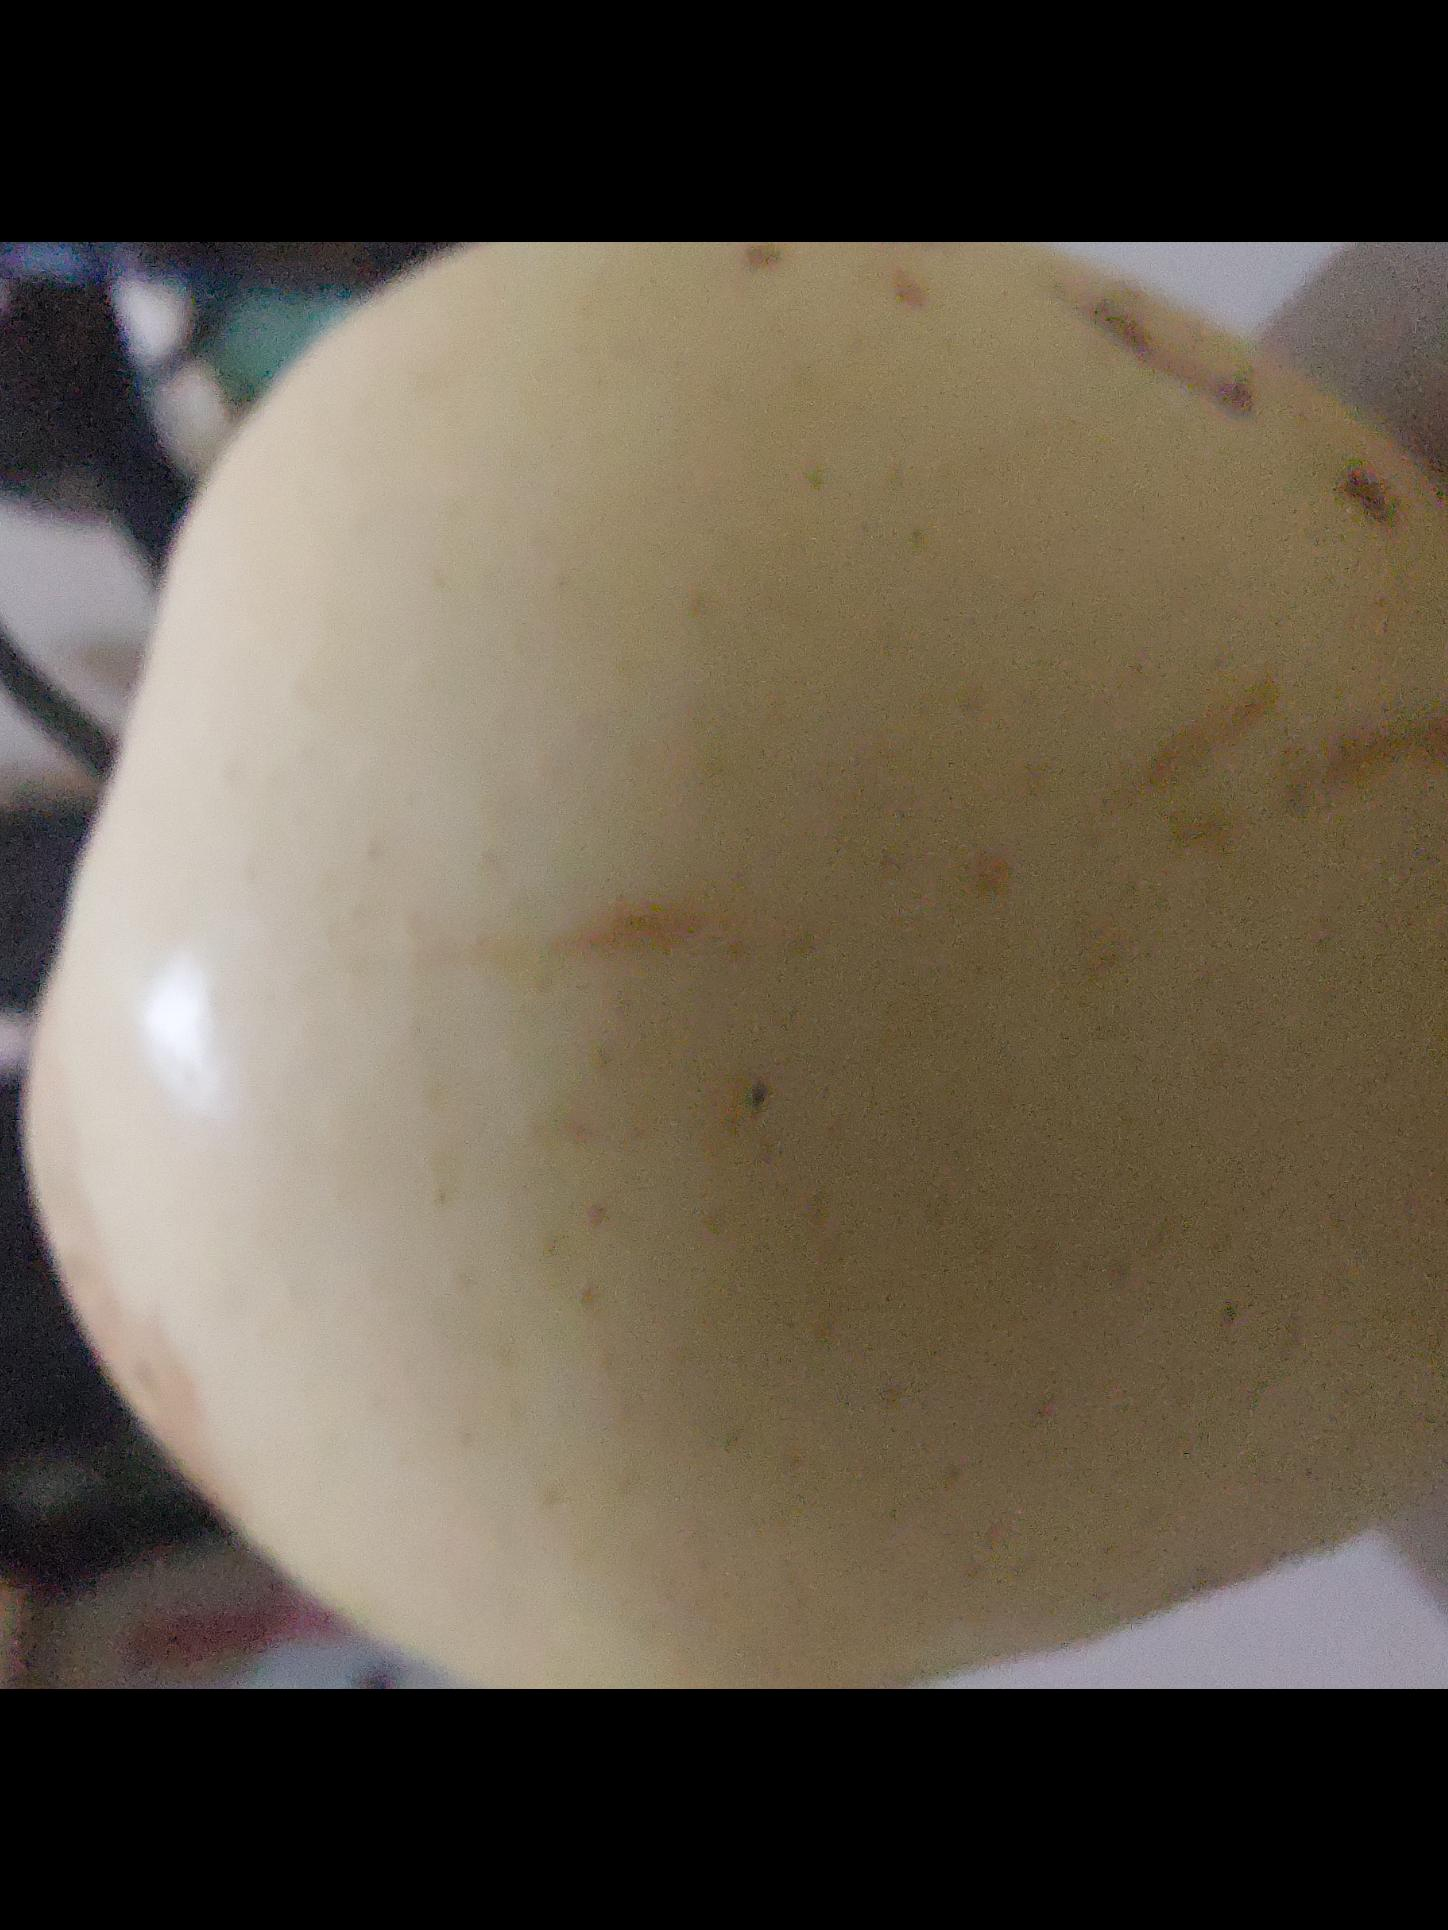Bad Pear: (8, 240, 1448, 1690)
